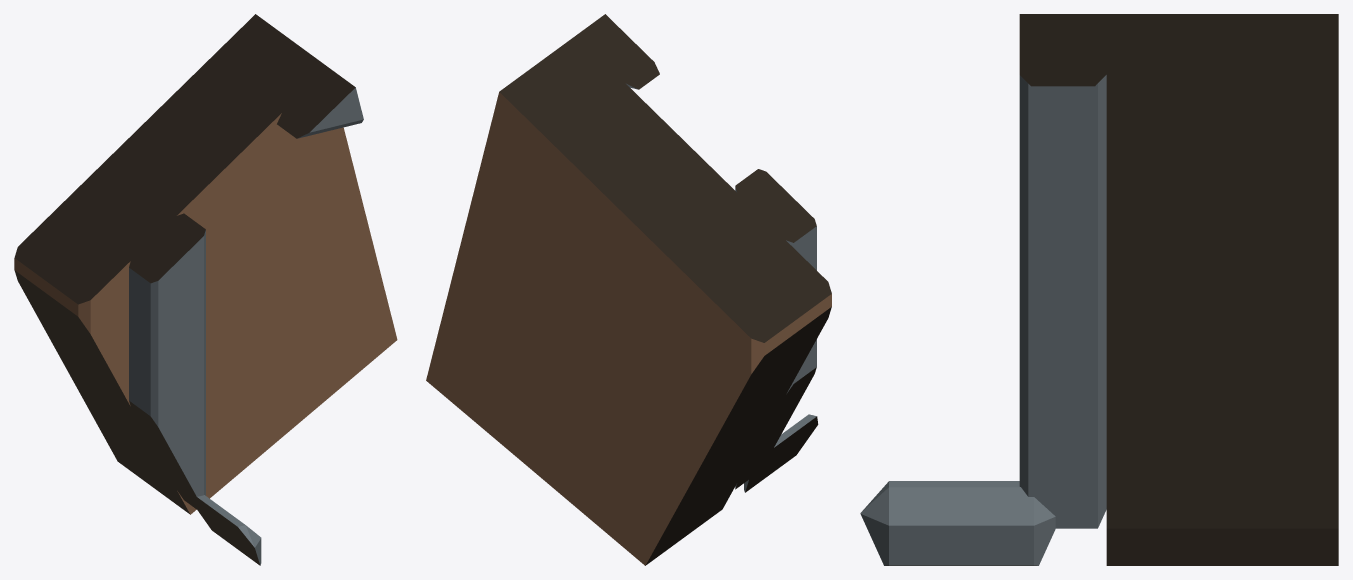
File: SM_DoorShard_03_09.fbx
The picture shows the model from 3 angles, left to right: view 1: azimuth 30°, elevation 25°; view 2: azimuth 150°, elevation 25°; view 3: azimuth 270°, elevation 25°; orthographic projection. The views are drawn at different scales.
Parts seen in each view (by area): view 1: SM_DoorShard_03_09; view 2: SM_DoorShard_03_09; view 3: SM_DoorShard_03_09.
Boxes of the visible parts, box(x1,y1,x2,y2) form: SM_DoorShard_03_09: box(14, 14, 397, 565); SM_DoorShard_03_09: box(426, 14, 831, 565); SM_DoorShard_03_09: box(860, 14, 1338, 565).
Bounding box in the file's own units: 39.91 × 32.97 × 50.15.
